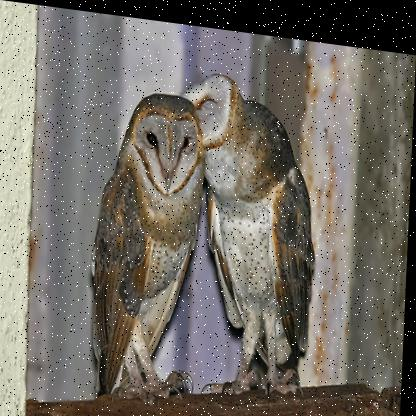Burung: (171, 64, 322, 400), (83, 77, 205, 407)
